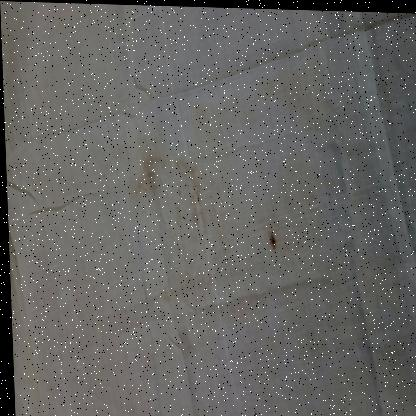spot: (133, 152, 211, 235), (149, 167, 200, 219), (185, 98, 222, 139), (160, 186, 191, 213), (264, 226, 279, 252), (154, 283, 170, 305)
